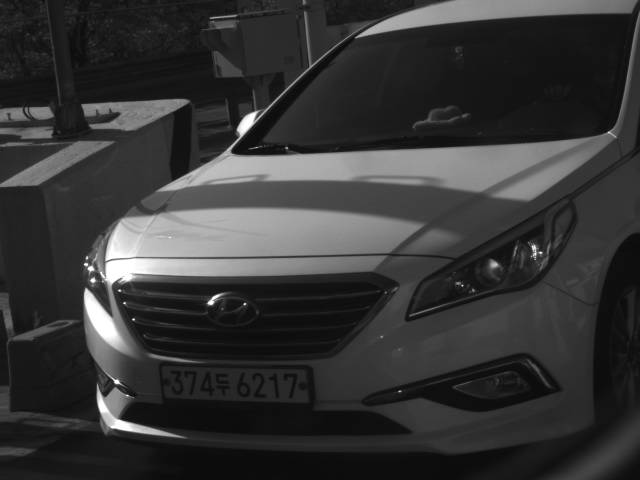car: (75, 1, 639, 451)
plate: (159, 362, 316, 406)
